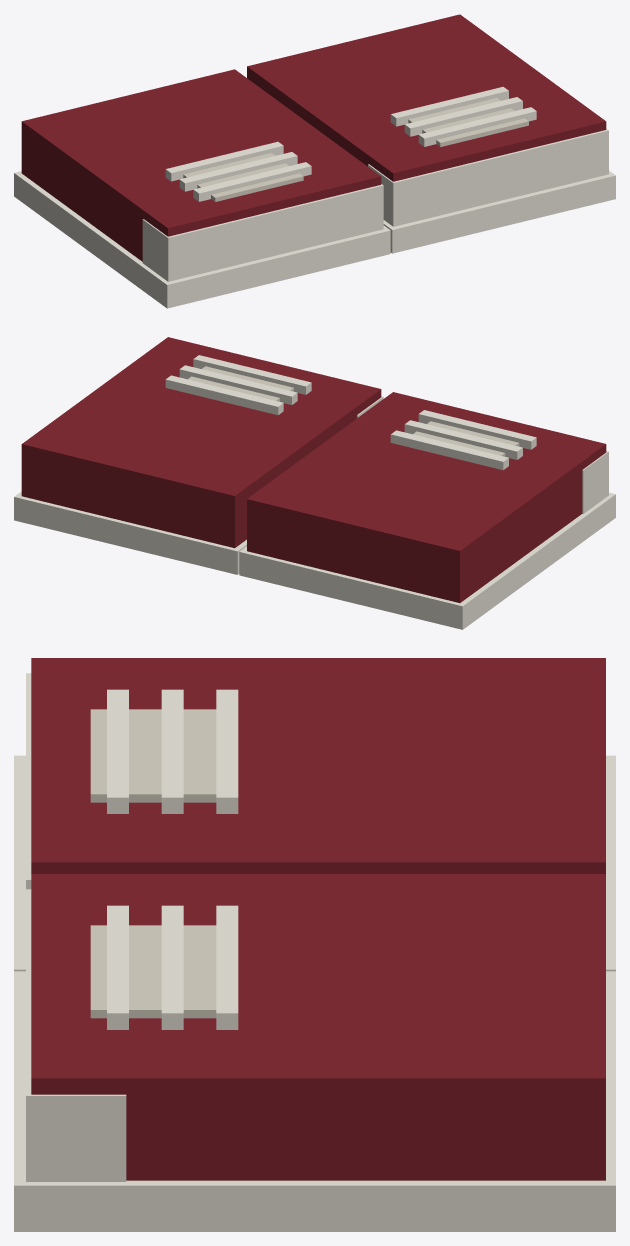
File: Zapatillas.fbx
The picture shows the model from 3 angles, top to bottom: view 1: azimuth 30°, elevation 25°; view 2: azimuth 150°, elevation 25°; view 3: azimuth 270°, elevation 25°; orthographic projection. The views are drawn at different scales.
Visible parts, largest first — view 1: Cuerpo_RightFoot, Cuerpo_LeftFoot, Zapa_PunteraRight, Zapa_SuelaRight, Zapa_PunteraLeft, Zapa_SuelaLeft, Zapa_LenguaLeft, Zapa_LenguaRight, Zapa_CordonRight2, Zapa_CordonLeft0, Zapa_CordonLeft1, Zapa_CordonLeft2 (+2 smaller); view 2: Cuerpo_RightFoot, Cuerpo_LeftFoot, Zapa_SuelaRight, Zapa_SuelaLeft, Zapa_CordonLeft2, Zapa_CordonRight2, Zapa_CordonRight1, Zapa_CordonLeft0, Zapa_CordonLeft1, Zapa_CordonRight0, Zapa_PunteraRight, Zapa_LenguaRight (+1 smaller); view 3: Cuerpo_LeftFoot, Cuerpo_RightFoot, Zapa_SuelaLeft, Zapa_PunteraLeft, Zapa_LenguaRight, Zapa_LenguaLeft, Zapa_SuelaRight, Zapa_CordonLeft1, Zapa_CordonLeft2, Zapa_CordonRight1, Zapa_CordonRight2, Zapa_CordonLeft0 (+2 smaller).
Boxes of the visible parts, bbox=[...] form: Cuerpo_RightFoot: bbox=[21, 69, 381, 261]; Cuerpo_LeftFoot: bbox=[247, 14, 606, 181]; Zapa_PunteraRight: bbox=[142, 184, 383, 281]; Zapa_SuelaRight: bbox=[14, 171, 390, 308]; Zapa_PunteraLeft: bbox=[368, 129, 608, 226]; Zapa_SuelaLeft: bbox=[383, 170, 615, 253]; Zapa_LenguaLeft: bbox=[408, 98, 528, 146]; Zapa_LenguaRight: bbox=[183, 153, 303, 201]; Zapa_CordonRight2: bbox=[165, 141, 283, 181]; Zapa_CordonLeft0: bbox=[418, 107, 536, 146]; Zapa_CordonLeft1: bbox=[404, 97, 522, 136]; Zapa_CordonLeft2: bbox=[390, 86, 508, 126]; Cuerpo_RightFoot: bbox=[247, 392, 606, 602]; Cuerpo_LeftFoot: bbox=[21, 337, 381, 548]; Zapa_SuelaRight: bbox=[239, 492, 615, 629]; Zapa_SuelaLeft: bbox=[14, 491, 246, 574]; Zapa_CordonLeft2: bbox=[165, 375, 283, 415]; Zapa_CordonRight2: bbox=[390, 430, 508, 470]; Zapa_CordonRight1: bbox=[404, 420, 522, 459]; Zapa_CordonLeft0: bbox=[193, 355, 311, 394]; Zapa_CordonLeft1: bbox=[179, 365, 297, 404]; Zapa_CordonRight0: bbox=[418, 410, 536, 449]; Zapa_PunteraRight: bbox=[582, 451, 608, 513]; Zapa_LenguaRight: bbox=[413, 421, 519, 456]; Cuerpo_LeftFoot: bbox=[31, 874, 605, 1180]; Cuerpo_RightFoot: bbox=[31, 658, 605, 873]; Zapa_SuelaLeft: bbox=[14, 971, 615, 1231]; Zapa_PunteraLeft: bbox=[26, 889, 126, 1181]; Zapa_LenguaRight: bbox=[90, 709, 216, 802]; Zapa_LenguaLeft: bbox=[90, 925, 216, 1018]; Zapa_SuelaRight: bbox=[14, 755, 615, 971]; Zapa_CordonLeft1: bbox=[161, 905, 183, 1029]; Zapa_CordonLeft2: bbox=[216, 905, 238, 1029]; Zapa_CordonRight1: bbox=[161, 689, 183, 813]; Zapa_CordonRight2: bbox=[216, 689, 238, 813]; Zapa_CordonLeft0: bbox=[107, 905, 128, 1029].
Bounding box in the file's own units: 1.99 × 0.3571 × 1.18.
